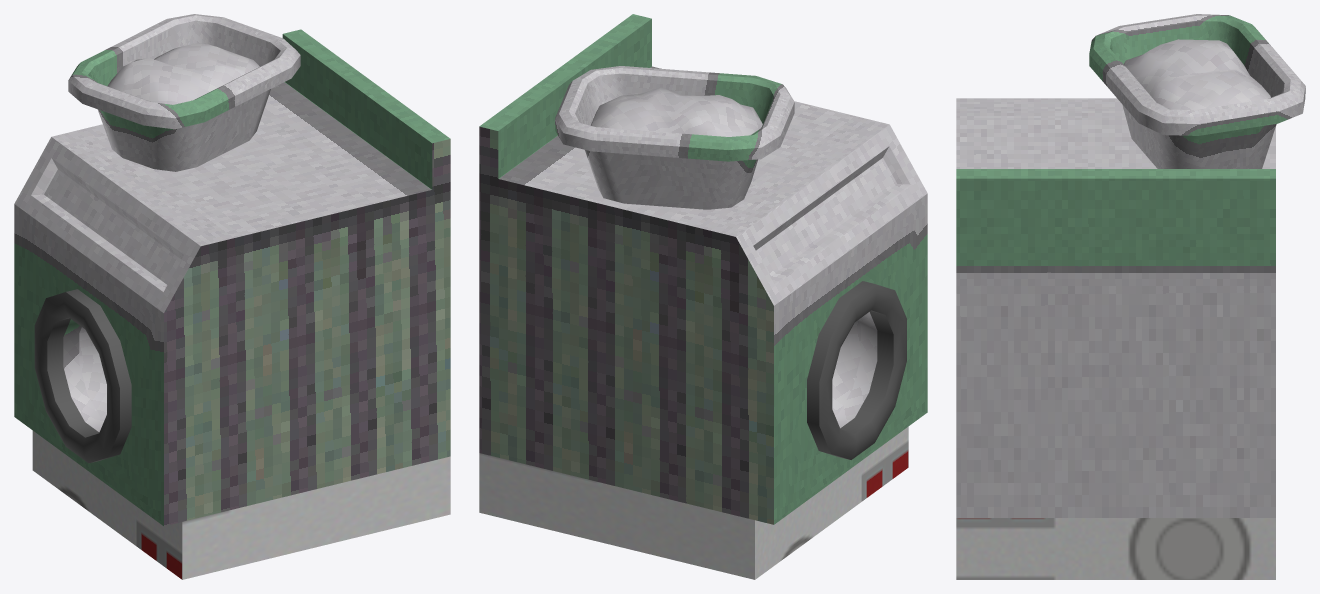
File: Wash_Machine.fbx
3 views of the same model, side by side, from view 1: azimuth 30°, elevation 25°; view 2: azimuth 150°, elevation 25°; view 3: azimuth 270°, elevation 25° (orthographic). The views are drawn at different scales.
Visible parts, largest first — view 1: Machine, Basket, Laundry; view 2: Machine, Basket, Laundry; view 3: Machine, Basket, Laundry.
Part boxes in pixels (bbox=[...]): Machine: bbox=[14, 29, 450, 579]; Basket: bbox=[68, 14, 300, 171]; Laundry: bbox=[107, 43, 259, 104]; Machine: bbox=[479, 14, 927, 579]; Basket: bbox=[555, 66, 794, 209]; Laundry: bbox=[591, 87, 762, 136]; Machine: bbox=[956, 98, 1275, 579]; Basket: bbox=[1089, 14, 1305, 168]; Laundry: bbox=[1123, 39, 1270, 109].
Size of the model in its own units: 81.5 by 106 by 76.48.
